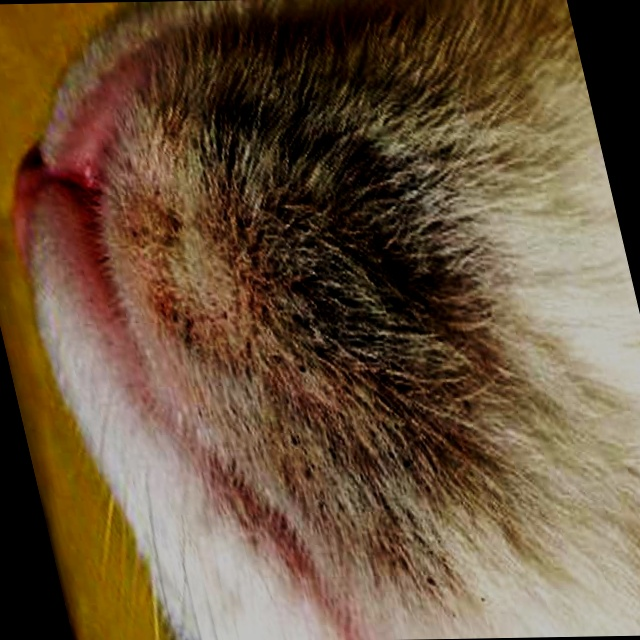acne: (171, 119, 481, 475)
